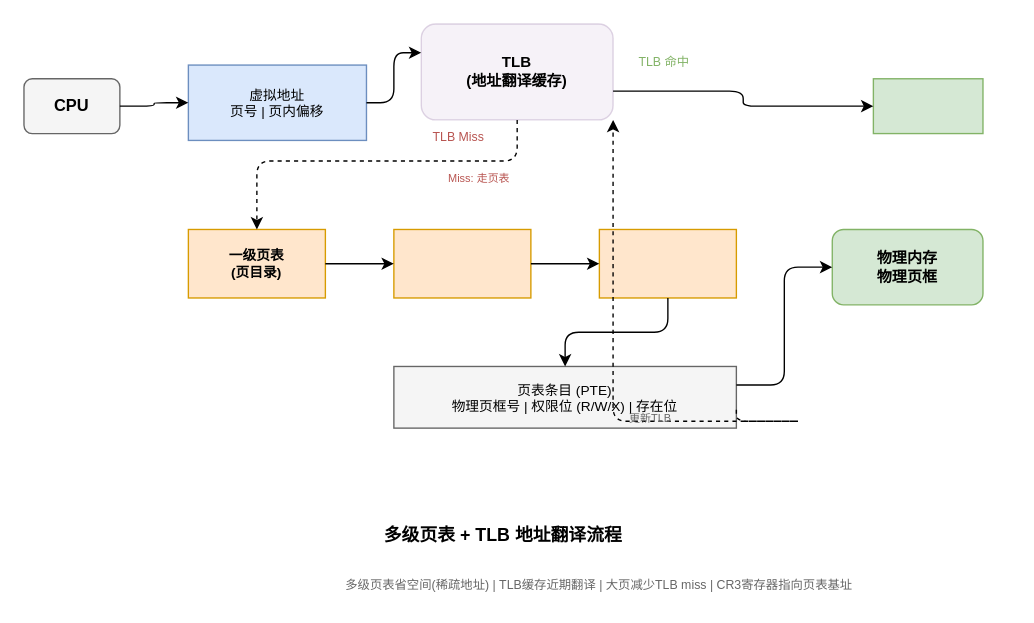
The diagram is 1034 pixels wide and 623 high, and some of its shapes have lost their labels. Here are the shapes that lost their labels. From the top down, the centre of each, then its label:
At pixel 927 105: "物理地址".
At pixel 462 263: "二级页表 (页表)".
At pixel 667 263: "三级页表 (可选)".
